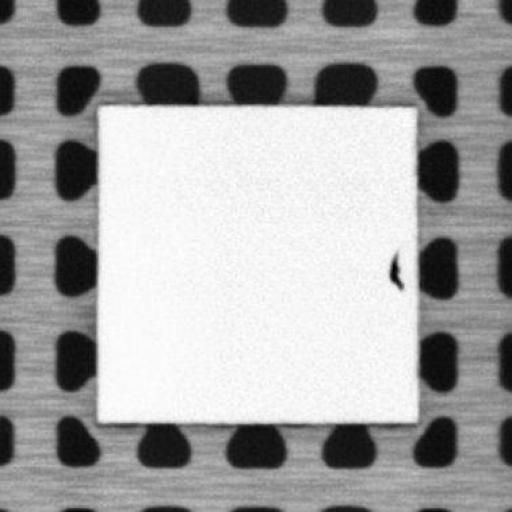DIE_INK: (388, 251, 402, 289)
